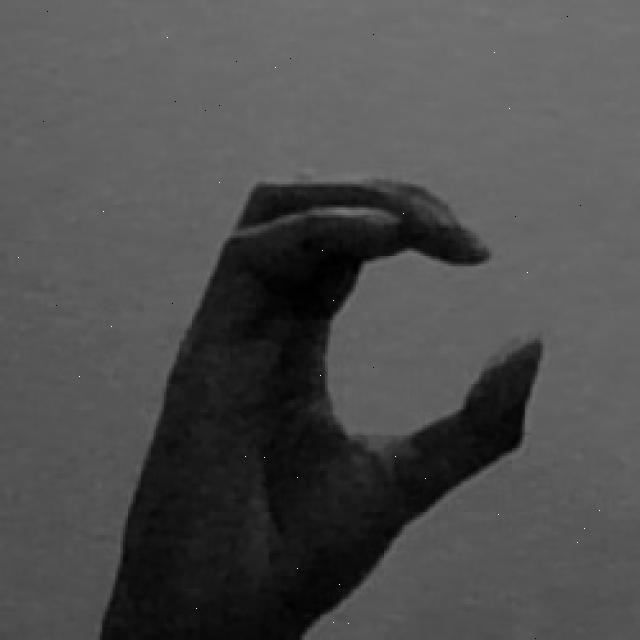C: (94, 176, 542, 640)
